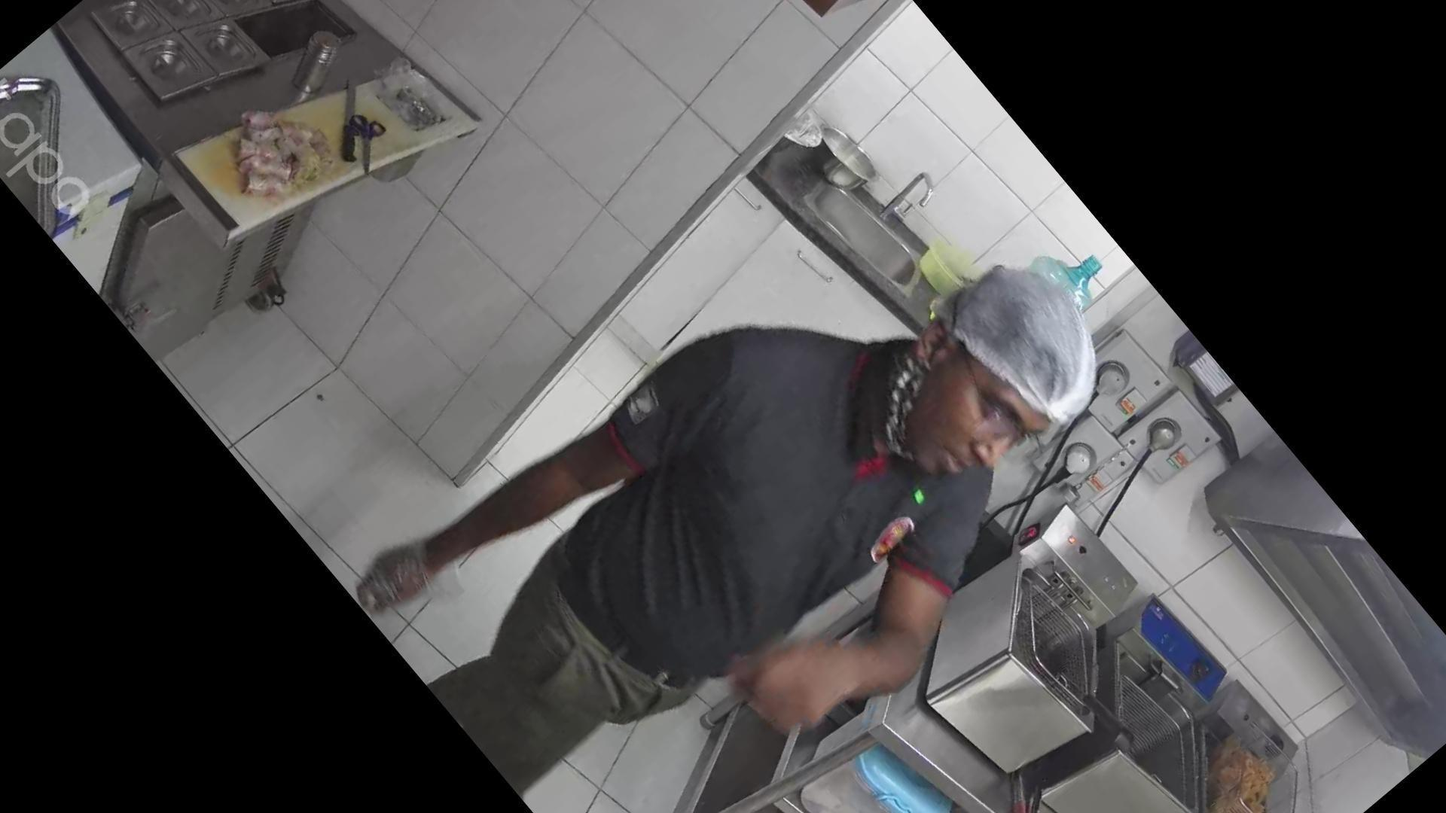apron: (340, 523, 466, 622)
gloves: (915, 252, 1091, 401)
no_apron: (721, 623, 872, 741)
no_hairnet: (905, 378, 1042, 484)
